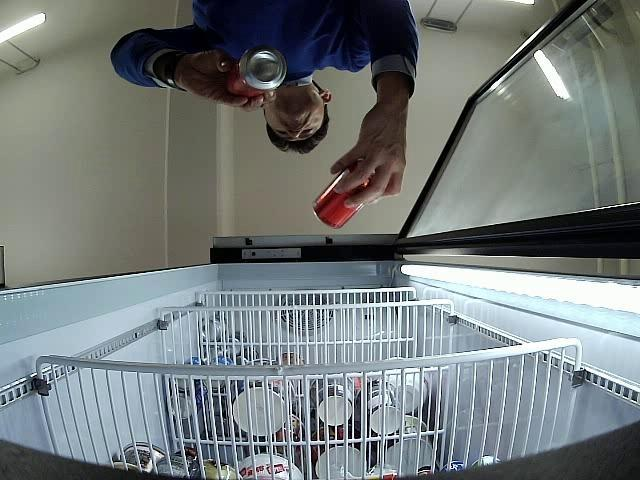11_cocaColaZero: (312, 161, 373, 229), (226, 47, 286, 100)
